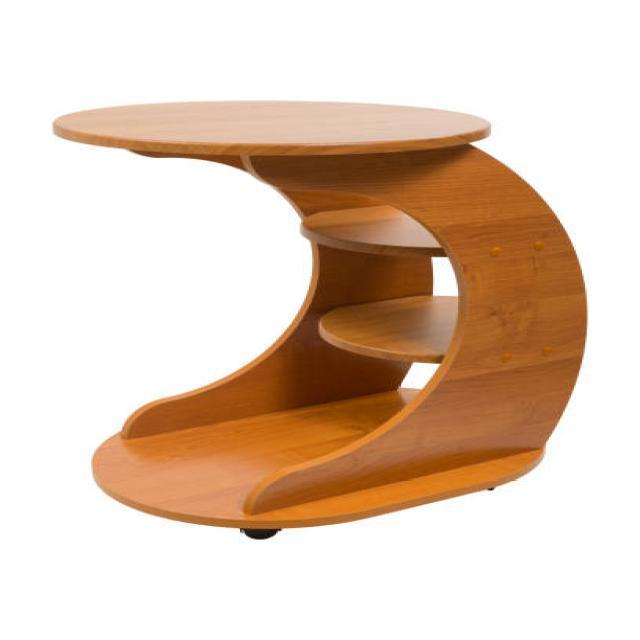table: (50, 98, 588, 539)
